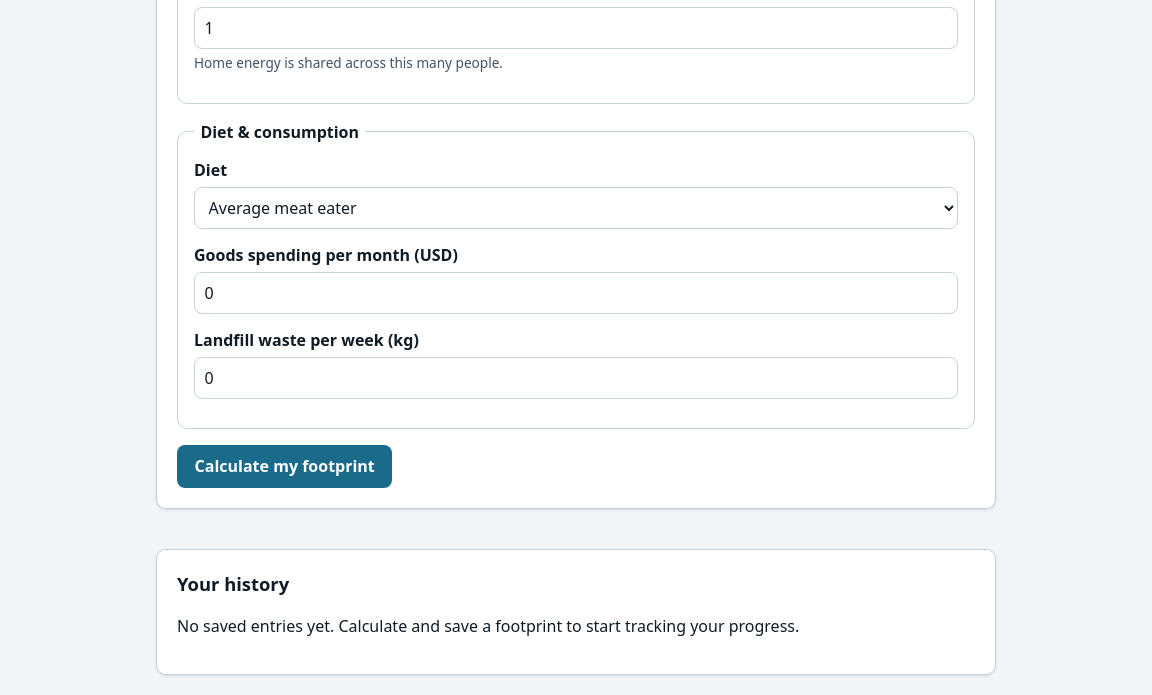
Test: App › calculates and shows results plus personalized insights
(page scrolled)
Click the button "Calculate my footprint" at (285, 466), box [177,445,392,488]
(page scrolled)
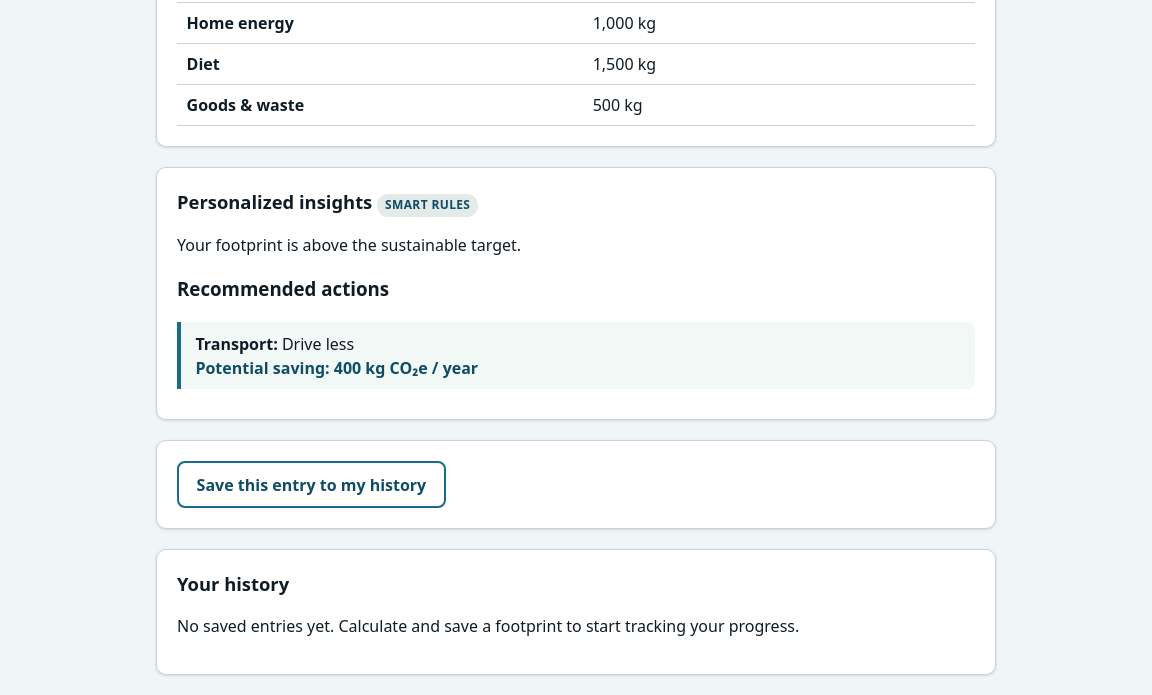
Now the heading "Personalized insights Smart rules" is shown, box [177,189,478,217]
Now the list item "Transport: Drive less Potential saving: 400 kg CO₂e / year" is shown, box [177,322,975,389]
